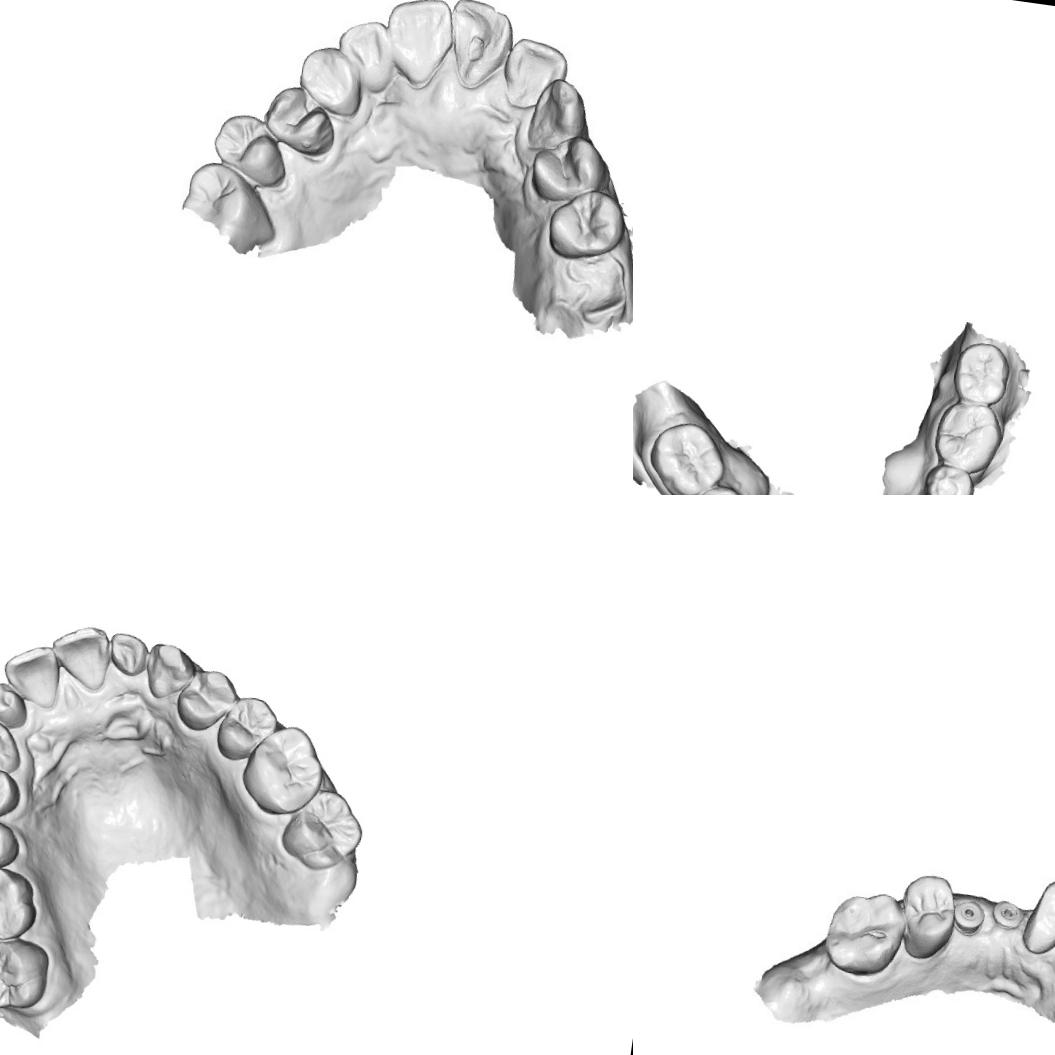canine: (520, 76, 596, 160), (293, 42, 368, 122), (141, 639, 199, 704), (0, 716, 26, 778)
implant: (948, 897, 986, 936)
implant_minus: (988, 897, 1030, 936)
incisor: (378, 0, 461, 93), (439, 0, 516, 92), (500, 34, 569, 115), (46, 620, 114, 692), (332, 15, 396, 90), (0, 639, 64, 711), (1016, 872, 1055, 959), (105, 630, 155, 680), (0, 681, 31, 730)
molar: (238, 719, 330, 820), (276, 782, 369, 876), (821, 886, 910, 978), (644, 417, 730, 495), (930, 398, 1006, 478), (948, 337, 1014, 408), (0, 933, 51, 1017), (0, 859, 43, 944)
premolar: (542, 185, 631, 268), (257, 82, 339, 166), (525, 129, 607, 208), (208, 108, 290, 186), (898, 869, 960, 959), (172, 664, 243, 736), (212, 692, 280, 766), (920, 460, 977, 495), (0, 762, 25, 827), (0, 814, 25, 874), (686, 480, 745, 495)
